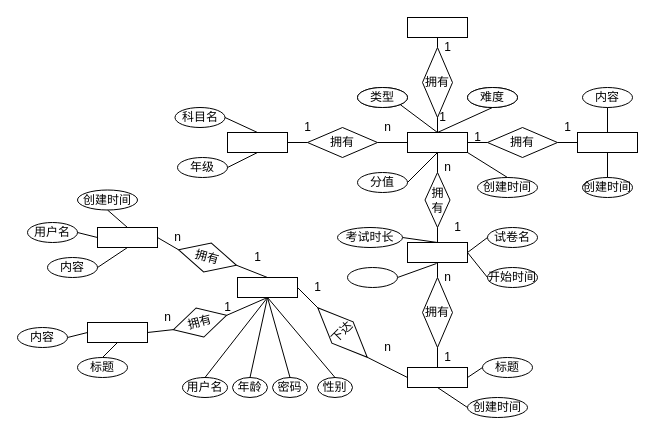
This 655x435 diagram has some shape labels left out. The shapes that lost their labels are listed below. From the top down, each one's box as (x1, y1, x2, y2) in pixels, then its label:
(406, 16, 468, 38): 答案
(226, 132, 288, 152): 科目
(406, 132, 468, 152): 问题
(576, 132, 638, 152): 文本内容
(96, 226, 158, 248): 用户日志
(406, 242, 468, 262): 试卷
(236, 276, 298, 298): 用户
(346, 266, 398, 288): 结束时间
(86, 322, 148, 342): 消息
(406, 366, 468, 388): 考试任务
